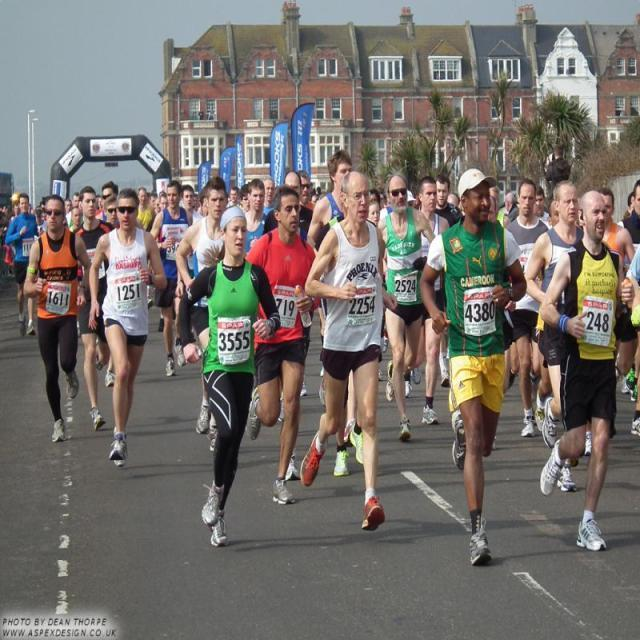dorsal: (580, 292, 618, 354), (460, 284, 500, 339), (215, 316, 254, 366), (270, 280, 302, 334), (346, 284, 381, 330), (42, 274, 74, 320), (112, 271, 146, 312), (391, 268, 422, 303)
